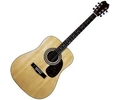guitar: (9, 1, 110, 100)
